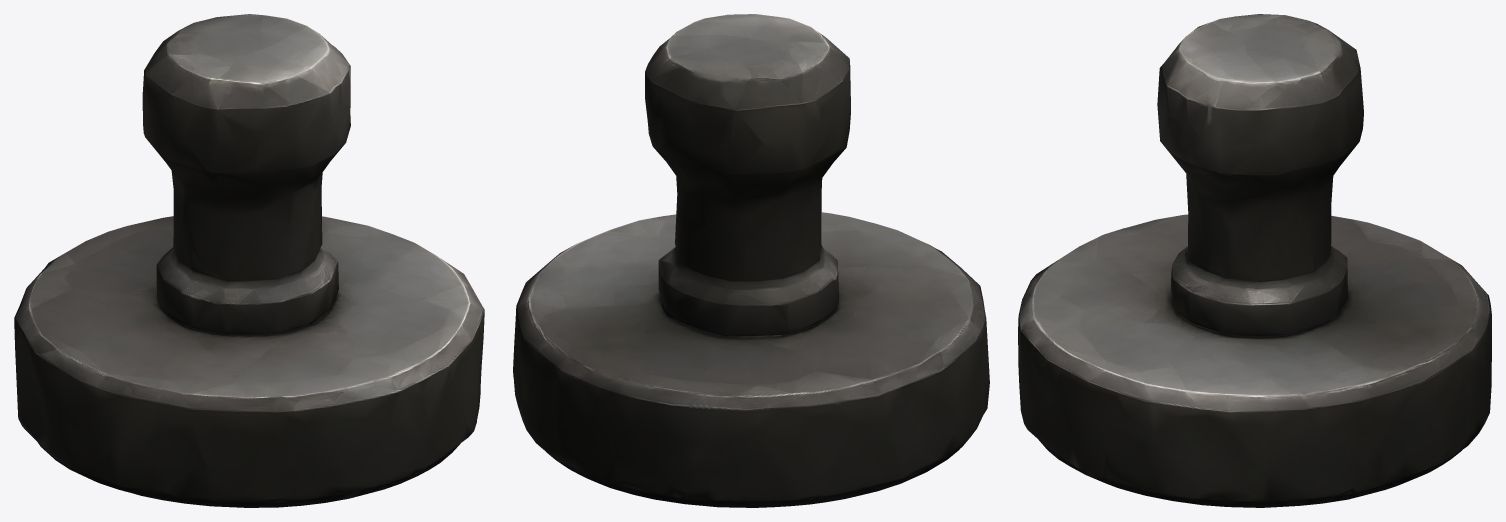
The model's file is metal+stamp+3d+model.glb.
The picture shows the model from 3 angles, left to right: view 1: azimuth 30°, elevation 25°; view 2: azimuth 150°, elevation 25°; view 3: azimuth 270°, elevation 25°; orthographic projection.
Visible parts, largest first — view 1: tripo_node_4fa79c55-1f40-4e23-ae79-5ea4591ed497; view 2: tripo_node_4fa79c55-1f40-4e23-ae79-5ea4591ed497; view 3: tripo_node_4fa79c55-1f40-4e23-ae79-5ea4591ed497.
Part boxes in pixels (x1,y1,x2,y2): tripo_node_4fa79c55-1f40-4e23-ae79-5ea4591ed497: [14, 14, 484, 507]; tripo_node_4fa79c55-1f40-4e23-ae79-5ea4591ed497: [513, 14, 989, 507]; tripo_node_4fa79c55-1f40-4e23-ae79-5ea4591ed497: [1018, 14, 1491, 507].
Bounding box in the file's own units: 1 × 0.8605 × 0.9997.
1 material, 1 textured.
